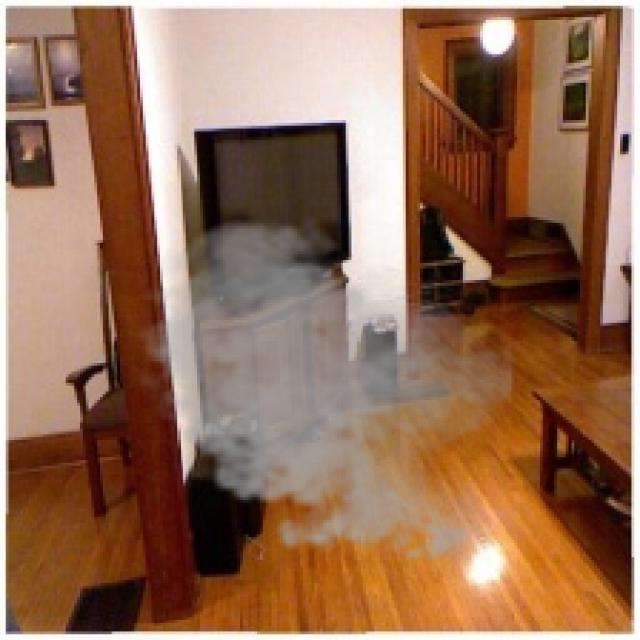smoke: (129, 212, 517, 574)
